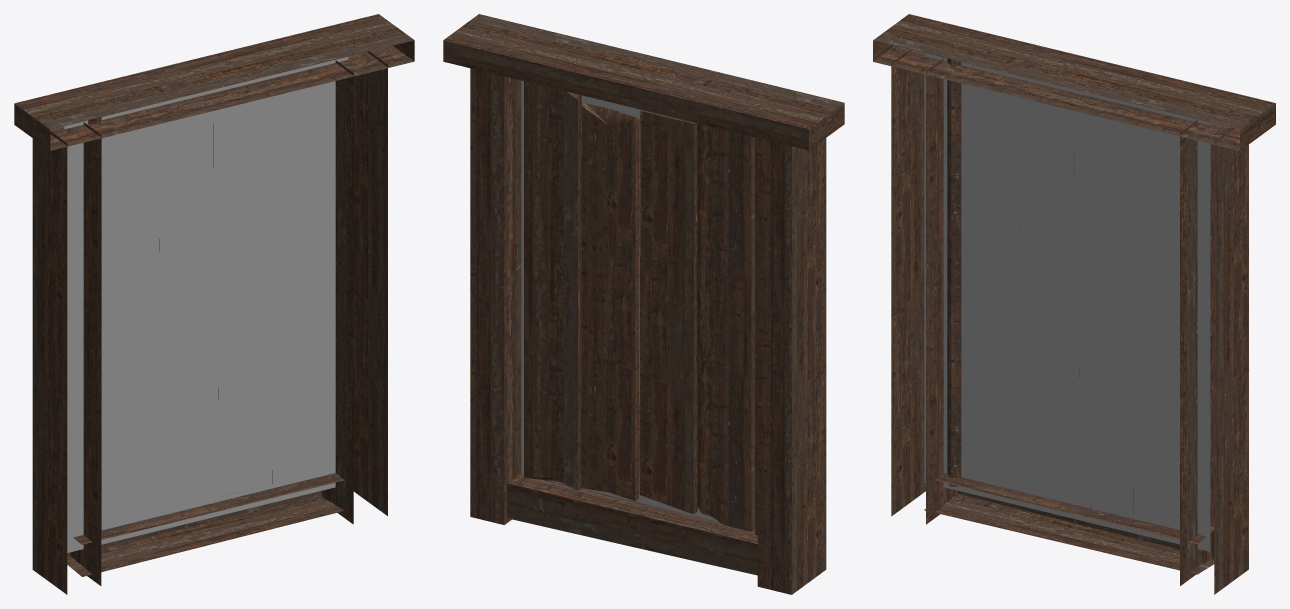
Rendered from SM_Kapi.fbx.
3 renders of one model, left to right at view 1: azimuth 30°, elevation 25°; view 2: azimuth 150°, elevation 25°; view 3: azimuth 330°, elevation 25°, orthographic.
Visible parts, largest first — view 1: polySurface1120; view 2: polySurface1120; view 3: polySurface1120.
Part boxes in pixels (x1=…): polySurface1120: x1=14, y1=14, x2=414, y2=594; polySurface1120: x1=443, y1=14, x2=844, y2=594; polySurface1120: x1=873, y1=14, x2=1275, y2=594.
Size of the model in its own units: 104 by 128 by 17.89.
